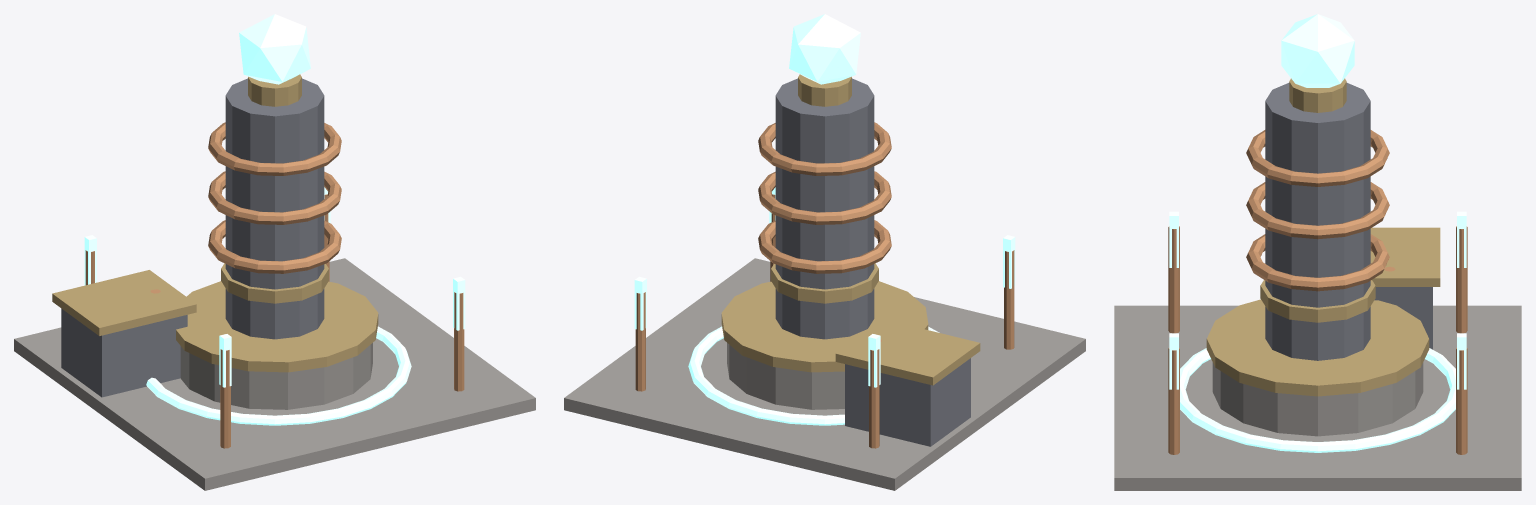
Rendered from gearforge_aether_works.glb.
3 renders of one model, left to right at view 1: azimuth 30°, elevation 25°; view 2: azimuth 150°, elevation 25°; view 3: azimuth 270°, elevation 25°, orthographic. The views are drawn at different scales.
Parts seen in each view (by area): view 1: gearforge_aether_works_pad, gearforge_aether_works_tower, gearforge_aether_works_base_trim, gearforge_aether_works_shed, gearforge_aether_works_base, gearforge_aether_works_shed_roof, gearforge_aether_works_core, gearforge_aether_works_ring, gearforge_aether_works_coil_0, gearforge_aether_works_coil_1, gearforge_aether_works_coil_2, gearforge_aether_works_tower_band (+3 smaller); view 2: gearforge_aether_works_pad, gearforge_aether_works_tower, gearforge_aether_works_base_trim, gearforge_aether_works_shed, gearforge_aether_works_shed_roof, gearforge_aether_works_base, gearforge_aether_works_core, gearforge_aether_works_ring, gearforge_aether_works_coil_0, gearforge_aether_works_coil_1, gearforge_aether_works_coil_2, gearforge_aether_works_tower_band (+4 smaller); view 3: gearforge_aether_works_pad, gearforge_aether_works_tower, gearforge_aether_works_base_trim, gearforge_aether_works_base, gearforge_aether_works_ring, gearforge_aether_works_core, gearforge_aether_works_shed_roof, gearforge_aether_works_coil_0, gearforge_aether_works_coil_1, gearforge_aether_works_coil_2, gearforge_aether_works_tower_band, gearforge_aether_works_shed (+5 smaller).
Boxes of the visible parts, x1,y1,x2,y2 form: gearforge_aether_works_pad: (14,258,535,490); gearforge_aether_works_tower: (225,78,324,339); gearforge_aether_works_base_trim: (176,281,378,372); gearforge_aether_works_shed: (61,308,187,397); gearforge_aether_works_base: (180,343,372,409); gearforge_aether_works_shed_roof: (52,270,196,335); gearforge_aether_works_core: (239,14,310,84); gearforge_aether_works_ring: (146,326,411,425); gearforge_aether_works_coil_0: (208,220,341,273); gearforge_aether_works_coil_1: (208,171,341,224); gearforge_aether_works_coil_2: (208,122,341,175); gearforge_aether_works_tower_band: (221,263,328,303); gearforge_aether_works_pad: (564,258,1085,490); gearforge_aether_works_tower: (775,78,874,339); gearforge_aether_works_base_trim: (721,281,928,372); gearforge_aether_works_shed: (845,358,970,446); gearforge_aether_works_shed_roof: (835,319,980,385); gearforge_aether_works_base: (727,343,844,409); gearforge_aether_works_core: (789,14,860,84); gearforge_aether_works_ring: (688,326,939,425); gearforge_aether_works_coil_0: (758,220,891,273); gearforge_aether_works_coil_1: (758,171,891,224); gearforge_aether_works_coil_2: (758,122,891,175); gearforge_aether_works_tower_band: (771,263,878,303); gearforge_aether_works_pad: (1114,305,1521,490); gearforge_aether_works_tower: (1265,83,1370,360); gearforge_aether_works_base_trim: (1206,299,1429,396); gearforge_aether_works_base: (1212,362,1423,436); gearforge_aether_works_ring: (1180,348,1455,452); gearforge_aether_works_core: (1281,14,1354,87); gearforge_aether_works_shed_roof: (1370,227,1440,286); gearforge_aether_works_coil_0: (1246,234,1389,291); gearforge_aether_works_coil_1: (1246,182,1389,239); gearforge_aether_works_coil_2: (1246,130,1389,186); gearforge_aether_works_tower_band: (1260,280,1375,322); gearforge_aether_works_shed: (1374,287,1432,349).
Bounding box in the file's own units: 8.5 × 9 × 8.5.
